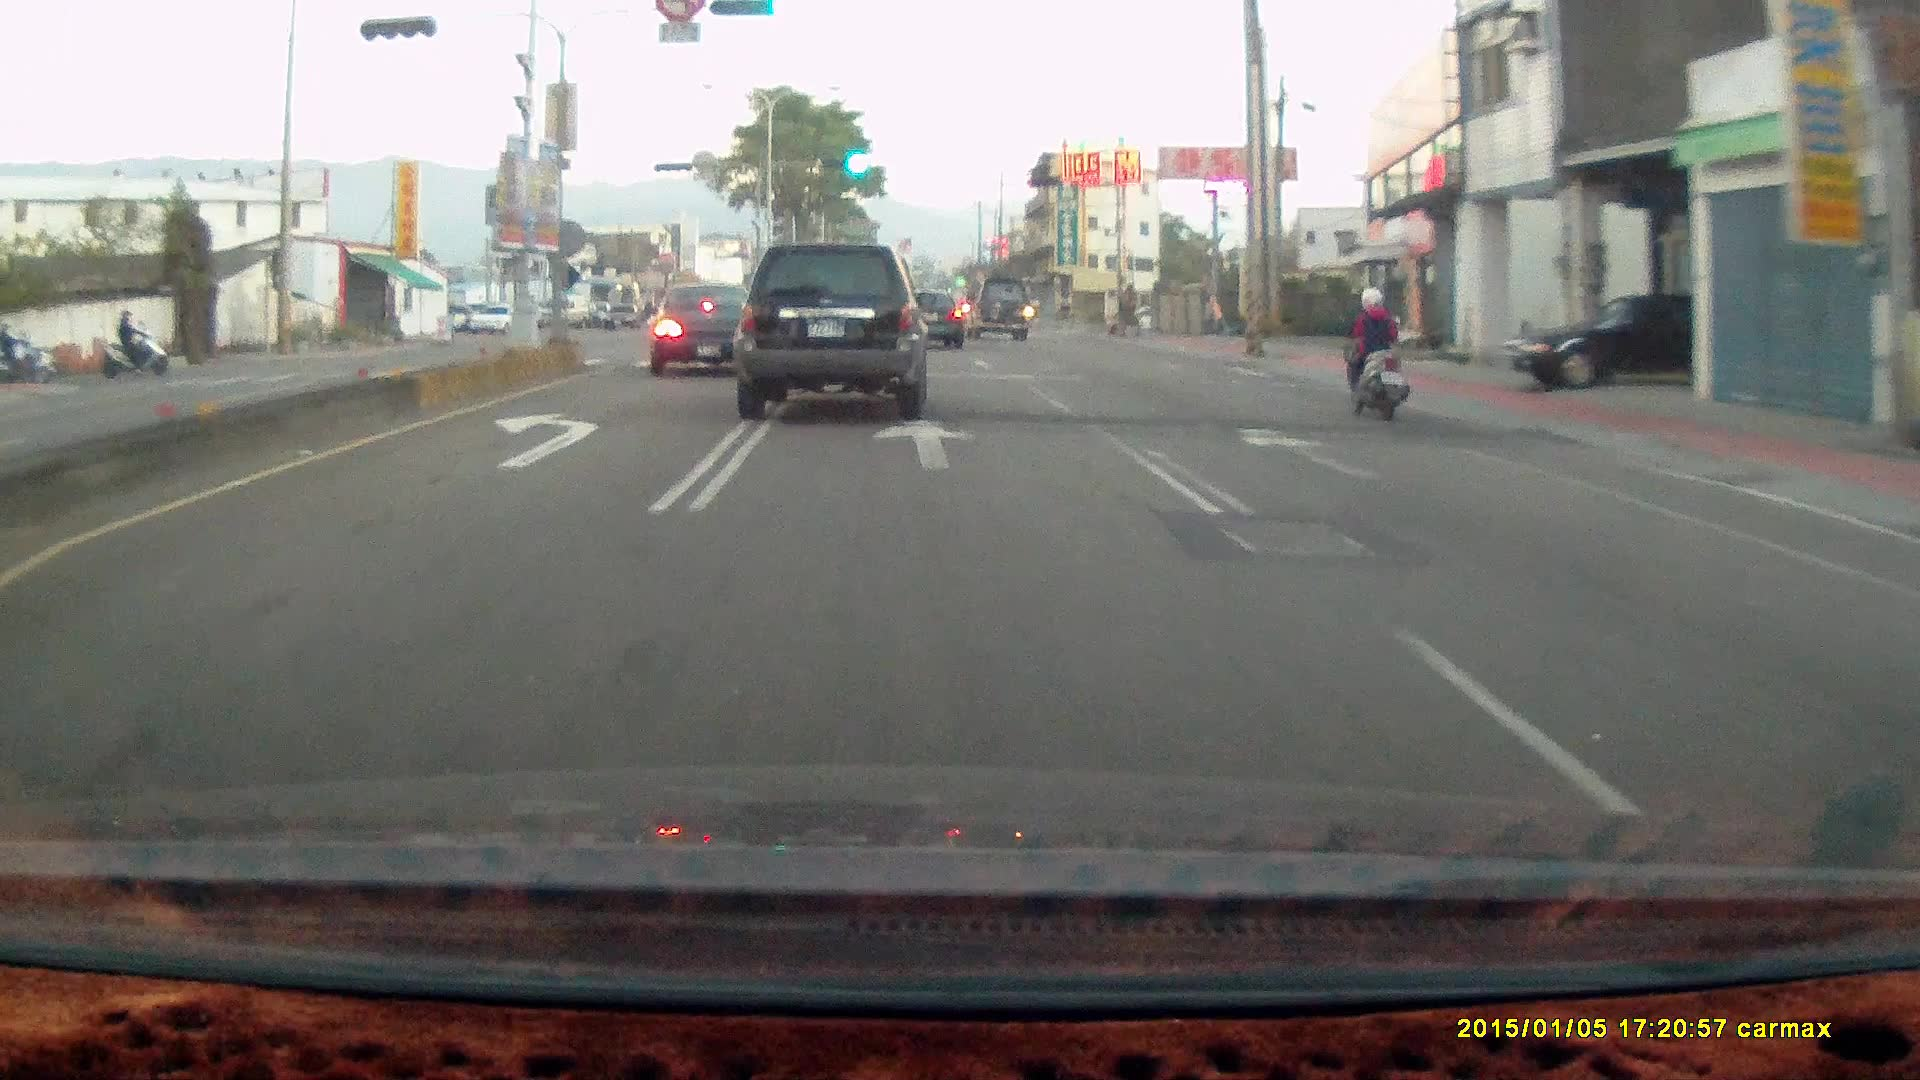rider: (1328, 277, 1420, 432), (1333, 286, 1408, 420), (77, 301, 174, 380)
vehicle: (731, 239, 933, 425), (733, 243, 934, 420), (1500, 293, 1774, 393), (1511, 293, 1706, 393), (648, 279, 763, 376), (652, 279, 754, 383), (963, 277, 1032, 344), (891, 288, 964, 349), (895, 289, 966, 351), (964, 277, 1031, 339), (465, 301, 528, 334), (530, 298, 585, 328), (602, 303, 642, 328)
